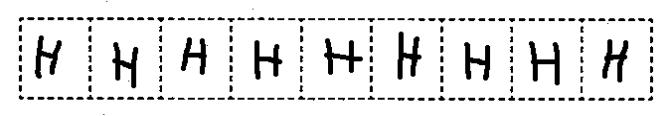H: (387, 26, 428, 87), (522, 35, 566, 88), (317, 34, 368, 79), (456, 37, 500, 87), (30, 30, 66, 87), (107, 37, 145, 91), (595, 33, 633, 87), (170, 34, 214, 79), (246, 36, 284, 84)
